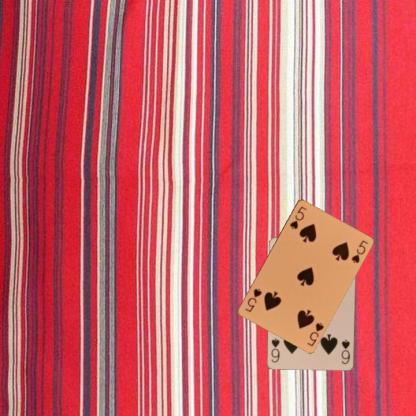5s: (288, 203, 308, 230), (304, 320, 324, 347)
6s: (339, 338, 351, 365)
